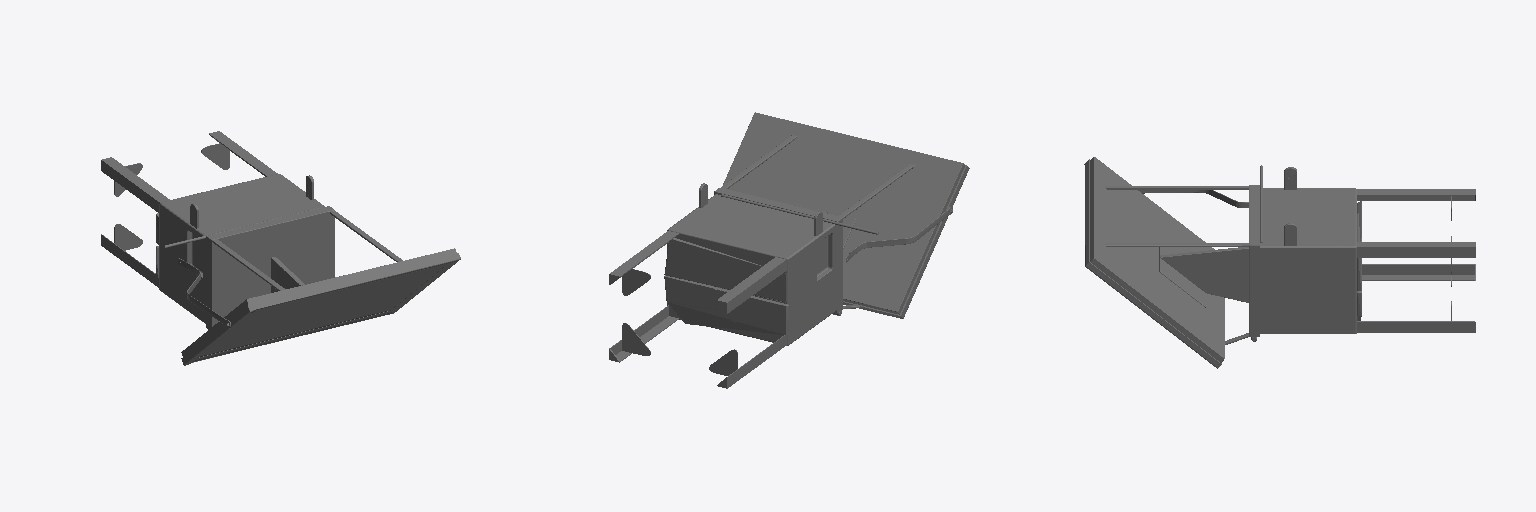
The model's file is panelquimico.obj.
3 views of the same model, side by side, from view 1: azimuth 30°, elevation 25°; view 2: azimuth 150°, elevation 25°; view 3: azimuth 270°, elevation 25° (orthographic).
Parts seen in each view (by area): view 1: Object.9, Object.13, Object.3, Object.2, Object.19, Object.8, Object.20, Object.18, Object.12; view 2: Object.8, Object.9, Object.1, Object.19, Object.10, Object.20, Object.13, Object.18, Object.2, Object.5; view 3: Object.9, Object.8, Object.19, Object.12, Object.13, Object.2, Object.18, Object.16.
Boxes of the visible parts, <box> form: Object.9: <box>159,174,324,323</box>; Object.13: <box>206,206,334,329</box>; Object.3: <box>199,265,443,356</box>; Object.2: <box>181,253,460,365</box>; Object.19: <box>101,131,277,287</box>; Object.8: <box>181,248,456,356</box>; Object.20: <box>114,143,229,250</box>; Object.18: <box>212,210,402,290</box>; Object.12: <box>271,257,304,292</box>; Object.8: <box>723,112,964,314</box>; Object.9: <box>667,194,836,345</box>; Object.1: <box>664,275,789,334</box>; Object.19: <box>609,231,786,388</box>; Object.10: <box>664,238,787,302</box>; Object.20: <box>622,269,737,375</box>; Object.13: <box>714,188,842,313</box>; Object.18: <box>721,135,914,218</box>; Object.2: <box>843,164,969,318</box>; Object.5: <box>846,206,952,262</box>; Object.9: <box>1260,188,1356,333</box>; Object.8: <box>1090,157,1224,362</box>; Object.19: <box>1357,189,1475,332</box>; Object.12: <box>1159,242,1248,307</box>; Object.13: <box>1249,185,1259,336</box>; Object.2: <box>1084,159,1221,368</box>; Object.18: <box>1105,186,1248,246</box>; Object.16: <box>1284,167,1296,245</box>.
Bounding box in the file's own units: 3549 × 1932 × 5581.